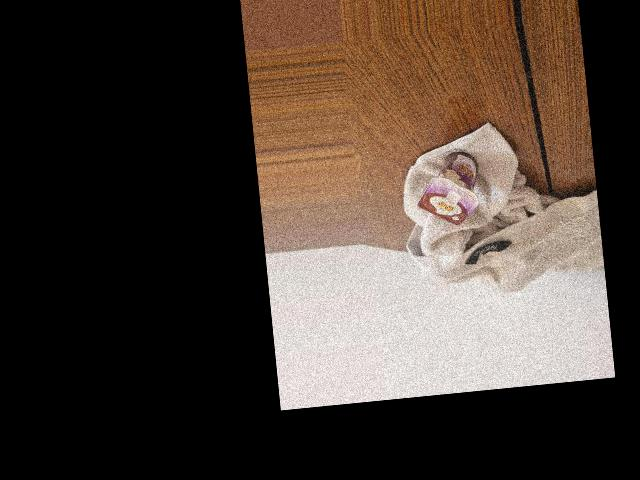milky: (414, 149, 481, 229)
